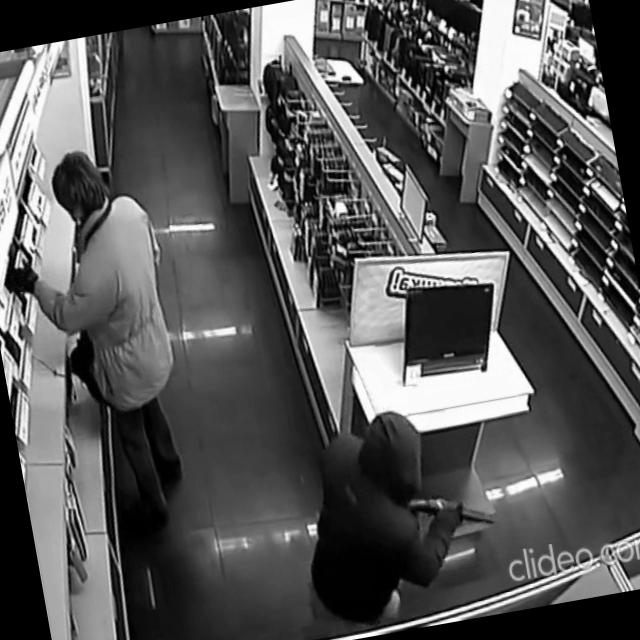gun: (400, 480, 498, 541)
person: (0, 136, 206, 547)
person with a gun: (275, 395, 515, 640)
